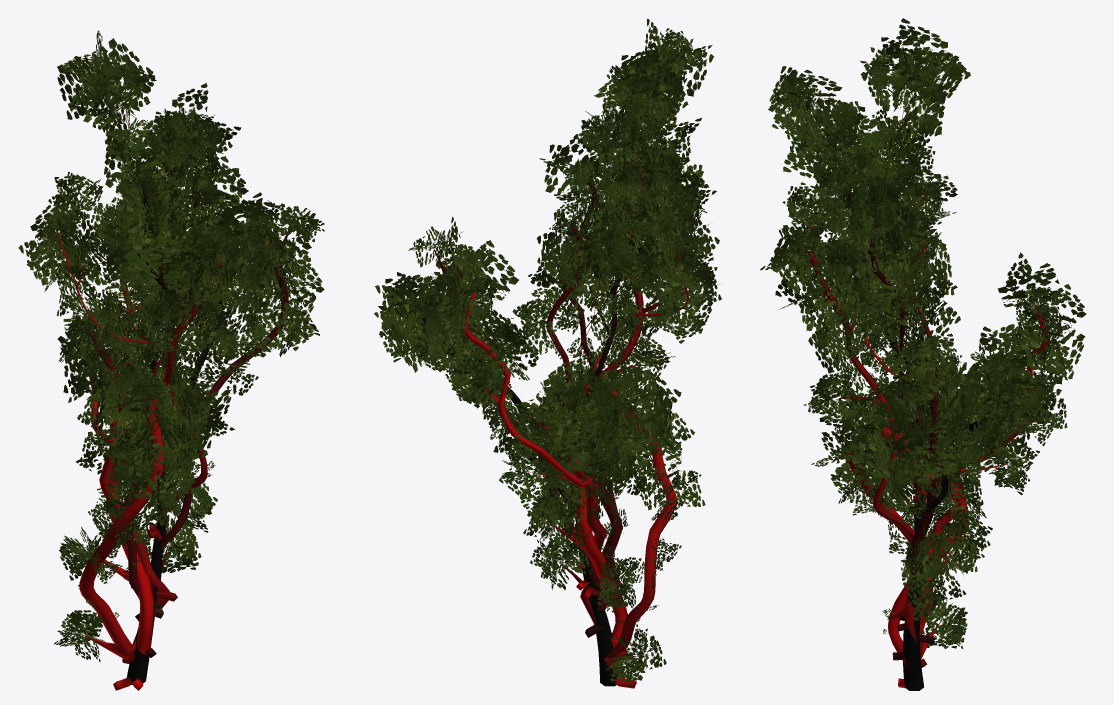
File: Tree_9.fbx
3 views of the same model, side by side, from view 1: azimuth 30°, elevation 25°; view 2: azimuth 150°, elevation 25°; view 3: azimuth 270°, elevation 25° (orthographic). The views are drawn at different scales.
Parts seen in each view (by area): view 1: Tree_7; view 2: Tree_7; view 3: Tree_7.
Boxes of the visible parts, x1,y1,x2,y2 form: Tree_7: [18, 30, 324, 690]; Tree_7: [374, 19, 721, 688]; Tree_7: [760, 18, 1086, 690].
Bounding box in the file's own units: 1050 × 2119 × 1008.
